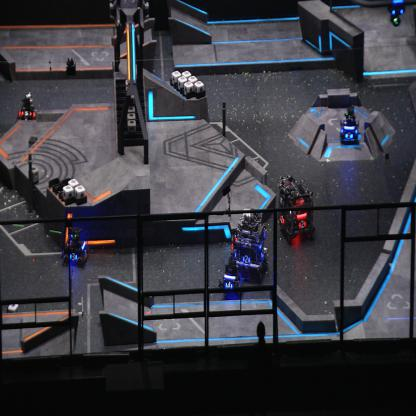car: (229, 215, 268, 282), (277, 175, 315, 238), (218, 254, 244, 296), (62, 227, 88, 267), (339, 103, 360, 145), (16, 90, 38, 127)
